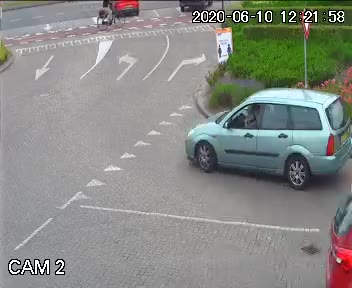car: (186, 79, 343, 181)
